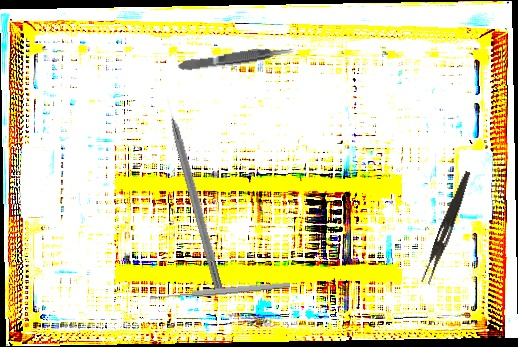Dressing Forceps: (420, 169, 473, 286)
Hook Surgical: (162, 94, 226, 292)
Surgical Spoon: (150, 280, 291, 302)
Tissue Forceps: (176, 43, 297, 73)
